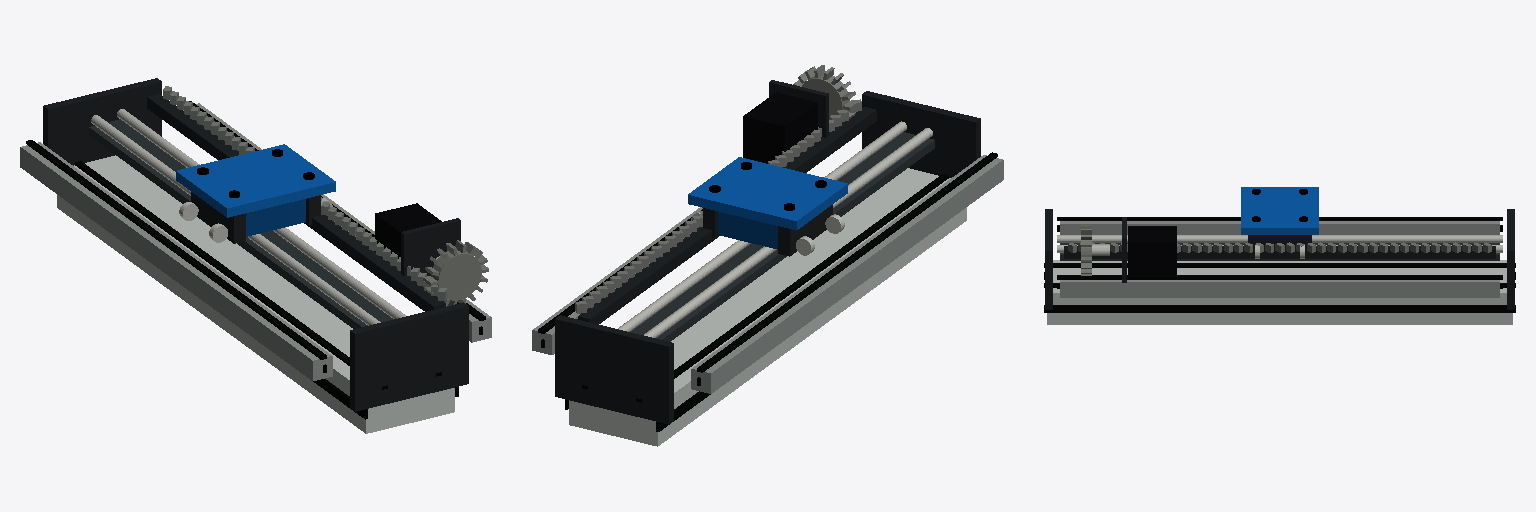
URDF robot description (xz_motion_mechanism_sim):
<?xml version="1.0"?>
<robot name="xz_motion_mechanism_sim">
  <material name="aluminium">
    <color rgba="0.74 0.76 0.74 1"/>
  </material>
  <material name="aluminium_dark">
    <color rgba="0.56 0.58 0.57 1"/>
  </material>
  <material name="slot_black">
    <color rgba="0.035 0.038 0.040 1"/>
  </material>
  <material name="dark_metal">
    <color rgba="0.13 0.14 0.15 1"/>
  </material>
  <material name="rail_dark">
    <color rgba="0.20 0.22 0.23 1"/>
  </material>
  <material name="steel">
    <color rgba="0.72 0.72 0.70 1"/>
  </material>
  <material name="gear_steel">
    <color rgba="0.48 0.49 0.47 1"/>
  </material>
  <material name="carriage_blue">
    <color rgba="0.04 0.28 0.50 1"/>
  </material>
  <material name="anodized_blue">
    <color rgba="0.06 0.38 0.68 1"/>
  </material>
  <material name="motor_black">
    <color rgba="0.05 0.05 0.06 1"/>
  </material>
  <material name="motor_label">
    <color rgba="0.85 0.88 0.82 1"/>
  </material>
  <material name="bolt_black">
    <color rgba="0.01 0.01 0.012 1"/>
  </material>

  <link name="world"/>

  <link name="base_frame">
    <visual name="base_8080_body">
      <origin xyz="0 0 0.04" rpy="0 0 0"/>
      <geometry><box size="0.18 1.08 0.08"/></geometry>
      <material name="aluminium"/>
    </visual>
    <visual name="base_top_slot_-0.055">
      <origin xyz="-0.055 0 0.083" rpy="0 0 0"/>
      <geometry><box size="0.012 1.09 0.006"/></geometry>
      <material name="slot_black"/>
    </visual>
    <visual name="base_top_slot_0.055">
      <origin xyz="0.055 0 0.083" rpy="0 0 0"/>
      <geometry><box size="0.012 1.09 0.006"/></geometry>
      <material name="slot_black"/>
    </visual>
    <visual name="base_side_slot_-0.092">
      <origin xyz="-0.092 0 0.04" rpy="0 0 0"/>
      <geometry><box size="0.006 1.09 0.018"/></geometry>
      <material name="slot_black"/>
    </visual>
    <visual name="base_side_slot_0.092">
      <origin xyz="0.092 0 0.04" rpy="0 0 0"/>
      <geometry><box size="0.006 1.09 0.018"/></geometry>
      <material name="slot_black"/>
    </visual>
    <visual name="left_4040_profile">
      <origin xyz="-0.16 0 0.13" rpy="0 0 0"/>
      <geometry><box size="0.04 1.02 0.04"/></geometry>
      <material name="aluminium_dark"/>
    </visual>
    <visual name="left_profile_top_slot">
      <origin xyz="-0.16 0 0.153" rpy="0 0 0"/>
      <geometry><box size="0.012 1.03 0.006"/></geometry>
      <material name="slot_black"/>
    </visual>
    <visual name="left_profile_inner_slot">
      <origin xyz="-0.1568 0 0.13" rpy="0 0 0"/>
      <geometry><box size="0.006 1.03 0.014"/></geometry>
      <material name="slot_black"/>
    </visual>
    <visual name="right_4040_profile">
      <origin xyz="0.16 0 0.13" rpy="0 0 0"/>
      <geometry><box size="0.04 1.02 0.04"/></geometry>
      <material name="aluminium_dark"/>
    </visual>
    <visual name="right_profile_top_slot">
      <origin xyz="0.16 0 0.153" rpy="0 0 0"/>
      <geometry><box size="0.012 1.03 0.006"/></geometry>
      <material name="slot_black"/>
    </visual>
    <visual name="right_profile_inner_slot">
      <origin xyz="0.1568 0 0.13" rpy="0 0 0"/>
      <geometry><box size="0.006 1.03 0.014"/></geometry>
      <material name="slot_black"/>
    </visual>
    <visual name="rail_base">
      <origin xyz="0 0 0.148" rpy="0 0 0"/>
      <geometry><box size="0.085 1.02 0.016"/></geometry>
      <material name="rail_dark"/>
    </visual>
    <visual name="guide_round_-0.026">
      <origin xyz="-0.026 0 0.164" rpy="1.570796 0 0"/>
      <geometry><cylinder radius="0.0090" length="1.0300"/></geometry>
      <material name="steel"/>
    </visual>
    <visual name="guide_round_0.026">
      <origin xyz="0.026 0 0.164" rpy="1.570796 0 0"/>
      <geometry><cylinder radius="0.0090" length="1.0300"/></geometry>
      <material name="steel"/>
    </visual>
    <visual name="rack_backbone">
      <origin xyz="0.082 0 0.181" rpy="0 0 0"/>
      <geometry><box size="0.026 1.00 0.022"/></geometry>
      <material name="dark_metal"/>
    </visual>
    <visual name="rack_tooth_00">
      <origin xyz="0.099 -0.480 0.200" rpy="0 0 0.785398"/>
      <geometry><box size="0.018 0.012 0.018"/></geometry>
      <material name="gear_steel"/>
    </visual>
    <visual name="rack_tooth_01">
      <origin xyz="0.099 -0.456 0.200" rpy="0 0 0.785398"/>
      <geometry><box size="0.018 0.012 0.018"/></geometry>
      <material name="gear_steel"/>
    </visual>
    <visual name="rack_tooth_02">
      <origin xyz="0.099 -0.432 0.200" rpy="0 0 0.785398"/>
      <geometry><box size="0.018 0.012 0.018"/></geometry>
      <material name="gear_steel"/>
    </visual>
    <visual name="rack_tooth_03">
      <origin xyz="0.099 -0.408 0.200" rpy="0 0 0.785398"/>
      <geometry><box size="0.018 0.012 0.018"/></geometry>
      <material name="gear_steel"/>
    </visual>
    <visual name="rack_tooth_04">
      <origin xyz="0.099 -0.384 0.200" rpy="0 0 0.785398"/>
      <geometry><box size="0.018 0.012 0.018"/></geometry>
      <material name="gear_steel"/>
    </visual>
    <visual name="rack_tooth_05">
      <origin xyz="0.099 -0.360 0.200" rpy="0 0 0.785398"/>
      <geometry><box size="0.018 0.012 0.018"/></geometry>
      <material name="gear_steel"/>
    </visual>
    <visual name="rack_tooth_06">
      <origin xyz="0.099 -0.336 0.200" rpy="0 0 0.785398"/>
      <geometry><box size="0.018 0.012 0.018"/></geometry>
      <material name="gear_steel"/>
    </visual>
    <visual name="rack_tooth_07">
      <origin xyz="0.099 -0.312 0.200" rpy="0 0 0.785398"/>
      <geometry><box size="0.018 0.012 0.018"/></geometry>
      <material name="gear_steel"/>
    </visual>
    <visual name="rack_tooth_08">
      <origin xyz="0.099 -0.288 0.200" rpy="0 0 0.785398"/>
      <geometry><box size="0.018 0.012 0.018"/></geometry>
      <material name="gear_steel"/>
    </visual>
    <visual name="rack_tooth_09">
      <origin xyz="0.099 -0.264 0.200" rpy="0 0 0.785398"/>
      <geometry><box size="0.018 0.012 0.018"/></geometry>
      <material name="gear_steel"/>
    </visual>
    <visual name="rack_tooth_10">
      <origin xyz="0.099 -0.240 0.200" rpy="0 0 0.785398"/>
      <geometry><box size="0.018 0.012 0.018"/></geometry>
      <material name="gear_steel"/>
    </visual>
    <visual name="rack_tooth_11">
      <origin xyz="0.099 -0.216 0.200" rpy="0 0 0.785398"/>
      <geometry><box size="0.018 0.012 0.018"/></geometry>
      <material name="gear_steel"/>
    </visual>
    <visual name="rack_tooth_12">
      <origin xyz="0.099 -0.192 0.200" rpy="0 0 0.785398"/>
      <geometry><box size="0.018 0.012 0.018"/></geometry>
      <material name="gear_steel"/>
    </visual>
    <visual name="rack_tooth_13">
      <origin xyz="0.099 -0.168 0.200" rpy="0 0 0.785398"/>
      <geometry><box size="0.018 0.012 0.018"/></geometry>
      <material name="gear_steel"/>
    </visual>
    <visual name="rack_tooth_14">
      <origin xyz="0.099 -0.144 0.200" rpy="0 0 0.785398"/>
      <geometry><box size="0.018 0.012 0.018"/></geometry>
      <material name="gear_steel"/>
    </visual>
    <visual name="rack_tooth_15">
      <origin xyz="0.099 -0.120 0.200" rpy="0 0 0.785398"/>
      <geometry><box size="0.018 0.012 0.018"/></geometry>
      <material name="gear_steel"/>
    </visual>
    <visual name="rack_tooth_16">
      <origin xyz="0.099 -0.096 0.200" rpy="0 0 0.785398"/>
      <geometry><box size="0.018 0.012 0.018"/></geometry>
      <material name="gear_steel"/>
    </visual>
    <visual name="rack_tooth_17">
      <origin xyz="0.099 -0.072 0.200" rpy="0 0 0.785398"/>
      <geometry><box size="0.018 0.012 0.018"/></geometry>
      <material name="gear_steel"/>
    </visual>
    <visual name="rack_tooth_18">
      <origin xyz="0.099 -0.048 0.200" rpy="0 0 0.785398"/>
      <geometry><box size="0.018 0.012 0.018"/></geometry>
      <material name="gear_steel"/>
    </visual>
    <visual name="rack_tooth_19">
      <origin xyz="0.099 -0.024 0.200" rpy="0 0 0.785398"/>
      <geometry><box size="0.018 0.012 0.018"/></geometry>
      <material name="gear_steel"/>
    </visual>
    <visual name="rack_tooth_20">
      <origin xyz="0.099 0.000 0.200" rpy="0 0 0.785398"/>
      <geometry><box size="0.018 0.012 0.018"/></geometry>
      <material name="gear_steel"/>
    </visual>
    <visual name="rack_tooth_21">
      <origin xyz="0.099 0.024 0.200" rpy="0 0 0.785398"/>
      <geometry><box size="0.018 0.012 0.018"/></geometry>
      <material name="gear_steel"/>
    </visual>
    <visual name="rack_tooth_22">
      <origin xyz="0.099 0.048 0.200" rpy="0 0 0.785398"/>
      <geometry><box size="0.018 0.012 0.018"/></geometry>
      <material name="gear_steel"/>
    </visual>
    <visual name="rack_tooth_23">
      <origin xyz="0.099 0.072 0.200" rpy="0 0 0.785398"/>
      <geometry><box size="0.018 0.012 0.018"/></geometry>
      <material name="gear_steel"/>
    </visual>
    <visual name="rack_tooth_24">
      <origin xyz="0.099 0.096 0.200" rpy="0 0 0.785398"/>
      <geometry><box size="0.018 0.012 0.018"/></geometry>
      <material name="gear_steel"/>
    </visual>
    <visual name="rack_tooth_25">
      <origin xyz="0.099 0.120 0.200" rpy="0 0 0.785398"/>
      <geometry><box size="0.018 0.012 0.018"/></geometry>
      <material name="gear_steel"/>
    </visual>
    <visual name="rack_tooth_26">
      <origin xyz="0.099 0.144 0.200" rpy="0 0 0.785398"/>
      <geometry><box size="0.018 0.012 0.018"/></geometry>
      <material name="gear_steel"/>
    </visual>
    <visual name="rack_tooth_27">
      <origin xyz="0.099 0.168 0.200" rpy="0 0 0.785398"/>
      <geometry><box size="0.018 0.012 0.018"/></geometry>
      <material name="gear_steel"/>
    </visual>
    <visual name="rack_tooth_28">
      <origin xyz="0.099 0.192 0.200" rpy="0 0 0.785398"/>
      <geometry><box size="0.018 0.012 0.018"/></geometry>
      <material name="gear_steel"/>
    </visual>
    <visual name="rack_tooth_29">
      <origin xyz="0.099 0.216 0.200" rpy="0 0 0.785398"/>
      <geometry><box size="0.018 0.012 0.018"/></geometry>
      <material name="gear_steel"/>
    </visual>
    <visual name="rack_tooth_30">
      <origin xyz="0.099 0.240 0.200" rpy="0 0 0.785398"/>
      <geometry><box size="0.018 0.012 0.018"/></geometry>
      <material name="gear_steel"/>
    </visual>
    <visual name="rack_tooth_31">
      <origin xyz="0.099 0.264 0.200" rpy="0 0 0.785398"/>
      <geometry><box size="0.018 0.012 0.018"/></geometry>
      <material name="gear_steel"/>
    </visual>
    <visual name="rack_tooth_32">
      <origin xyz="0.099 0.288 0.200" rpy="0 0 0.785398"/>
      <geometry><box size="0.018 0.012 0.018"/></geometry>
      <material name="gear_steel"/>
    </visual>
    <visual name="rack_tooth_33">
      <origin xyz="0.099 0.312 0.200" rpy="0 0 0.785398"/>
      <geometry><box size="0.018 0.012 0.018"/></geometry>
      <material name="gear_steel"/>
    </visual>
    <visual name="rack_tooth_34">
      <origin xyz="0.099 0.336 0.200" rpy="0 0 0.785398"/>
      <geometry><box size="0.018 0.012 0.018"/></geometry>
      <material name="gear_steel"/>
    </visual>
    <visual name="rack_tooth_35">
      <origin xyz="0.099 0.360 0.200" rpy="0 0 0.785398"/>
      <geometry><box size="0.018 0.012 0.018"/></geometry>
      <material name="gear_steel"/>
    </visual>
    <visual name="rack_tooth_36">
      <origin xyz="0.099 0.384 0.200" rpy="0 0 0.785398"/>
      <geometry><box size="0.018 0.012 0.018"/></geometry>
      <material name="gear_steel"/>
    </visual>
    <visual name="rack_tooth_37">
      <origin xyz="0.099 0.408 0.200" rpy="0 0 0.785398"/>
      <geometry><box size="0.018 0.012 0.018"/></geometry>
      <material name="gear_steel"/>
    </visual>
    <visual name="rack_tooth_38">
      <origin xyz="0.099 0.432 0.200" rpy="0 0 0.785398"/>
      <geometry><box size="0.018 0.012 0.018"/></geometry>
      <material name="gear_steel"/>
    </visual>
    <visual name="rack_tooth_39">
      <origin xyz="0.099 0.456 0.200" rpy="0 0 0.785398"/>
      <geometry><box size="0.018 0.012 0.018"/></geometry>
      <material name="gear_steel"/>
    </visual>
    <visual name="rack_tooth_40">
      <origin xyz="0.099 0.480 0.200" rpy="0 0 0.785398"/>
      <geometry><box size="0.018 0.012 0.018"/></geometry>
      <material name="gear_steel"/>
    </visual>
    <visual name="end_plate_-0.535">
      <origin xyz="0 -0.535 0.125" rpy="0 0 0"/>
      <geometry><box size="0.23 0.018 0.15"/></geometry>
      <material name="dark_metal"/>
    </visual>
    <visual name="end_bolt_-0.535_-0.07_0.08">
      <origin xyz="-0.07 -0.535 0.08" rpy="1.570796 0 0"/>
      <geometry><cylinder radius="0.0080" length="0.0060"/></geometry>
      <material name="bolt_black"/>
    </visual>
    <visual name="end_bolt_-0.535_-0.07_0.17">
      <origin xyz="-0.07 -0.535 0.17" rpy="1.570796 0 0"/>
      <geometry><cylinder radius="0.0080" length="0.0060"/></geometry>
      <material name="bolt_black"/>
    </visual>
    <visual name="end_bolt_-0.535_0.07_0.08">
      <origin xyz="0.07 -0.535 0.08" rpy="1.570796 0 0"/>
      <geometry><cylinder radius="0.0080" length="0.0060"/></geometry>
      <material name="bolt_black"/>
    </visual>
    <visual name="end_bolt_-0.535_0.07_0.17">
      <origin xyz="0.07 -0.535 0.17" rpy="1.570796 0 0"/>
      <geometry><cylinder radius="0.0080" length="0.0060"/></geometry>
      <material name="bolt_black"/>
    </visual>
    <visual name="end_plate_0.535">
      <origin xyz="0 0.535 0.125" rpy="0 0 0"/>
      <geometry><box size="0.23 0.018 0.15"/></geometry>
      <material name="dark_metal"/>
    </visual>
    <visual name="end_bolt_0.535_-0.07_0.08">
      <origin xyz="-0.07 0.535 0.08" rpy="1.570796 0 0"/>
      <geometry><cylinder radius="0.0080" length="0.0060"/></geometry>
      <material name="bolt_black"/>
    </visual>
    <visual name="end_bolt_0.535_-0.07_0.17">
      <origin xyz="-0.07 0.535 0.17" rpy="1.570796 0 0"/>
      <geometry><cylinder radius="0.0080" length="0.0060"/></geometry>
      <material name="bolt_black"/>
    </visual>
    <visual name="end_bolt_0.535_0.07_0.08">
      <origin xyz="0.07 0.535 0.08" rpy="1.570796 0 0"/>
      <geometry><cylinder radius="0.0080" length="0.0060"/></geometry>
      <material name="bolt_black"/>
    </visual>
    <visual name="end_bolt_0.535_0.07_0.17">
      <origin xyz="0.07 0.535 0.17" rpy="1.570796 0 0"/>
      <geometry><cylinder radius="0.0080" length="0.0060"/></geometry>
      <material name="bolt_black"/>
    </visual>
    <collision name="base_collision">
      <origin xyz="0 0 0.04" rpy="0 0 0"/>
      <geometry><box size="0.22 1.10 0.09"/></geometry>
    </collision>
    <collision name="rail_collision">
      <origin xyz="0 0 0.16" rpy="0 0 0"/>
      <geometry><box size="0.09 1.02 0.04"/></geometry>
    </collision>
    <collision name="rack_collision">
      <origin xyz="0.087 0 0.19" rpy="0 0 0"/>
      <geometry><box size="0.04 1.00 0.04"/></geometry>
    </collision>
    <inertial>
      <mass value="25.0"/>
      <inertia ixx="0.75" ixy="0" ixz="0" iyy="2.1" iyz="0" izz="2.65"/>
    </inertial>
  </link>

  <joint name="world_fixed" type="fixed">
    <parent link="world"/>
    <child link="base_frame"/>
    <origin xyz="0 0 0" rpy="0 0 0"/>
  </joint>

  <link name="carriage">
    <visual name="slider_block_body">
      <origin xyz="0 0 0" rpy="0 0 0"/>
      <geometry><box size="0.14 0.13 0.05"/></geometry>
      <material name="carriage_blue"/>
    </visual>
    <visual name="top_mount_plate">
      <origin xyz="0 0 0.043" rpy="0 0 0"/>
      <geometry><box size="0.22 0.18 0.018"/></geometry>
      <material name="anodized_blue"/>
    </visual>
    <visual name="front_clamp">
      <origin xyz="0.075 0 0.005" rpy="0 0 0"/>
      <geometry><box size="0.025 0.15 0.065"/></geometry>
      <material name="dark_metal"/>
    </visual>
    <visual name="rear_clamp">
      <origin xyz="-0.075 0 0.005" rpy="0 0 0"/>
      <geometry><box size="0.025 0.15 0.065"/></geometry>
      <material name="dark_metal"/>
    </visual>
    <visual name="carriage_cap_-0.075_-0.055">
      <origin xyz="-0.075 -0.055 0.057" rpy="0 0 0"/>
      <geometry><cylinder radius="0.0100" length="0.0060"/></geometry>
      <material name="bolt_black"/>
    </visual>
    <visual name="carriage_cap_-0.075_0.055">
      <origin xyz="-0.075 0.055 0.057" rpy="0 0 0"/>
      <geometry><cylinder radius="0.0100" length="0.0060"/></geometry>
      <material name="bolt_black"/>
    </visual>
    <visual name="carriage_cap_0.075_-0.055">
      <origin xyz="0.075 -0.055 0.057" rpy="0 0 0"/>
      <geometry><cylinder radius="0.0100" length="0.0060"/></geometry>
      <material name="bolt_black"/>
    </visual>
    <visual name="carriage_cap_0.075_0.055">
      <origin xyz="0.075 0.055 0.057" rpy="0 0 0"/>
      <geometry><cylinder radius="0.0100" length="0.0060"/></geometry>
      <material name="bolt_black"/>
    </visual>
    <visual name="roller_-0.105_-0.052">
      <origin xyz="-0.105 -0.052 -0.012" rpy="1.570796 0 0"/>
      <geometry><cylinder radius="0.0160" length="0.0120"/></geometry>
      <material name="steel"/>
    </visual>
    <visual name="roller_-0.105_0.052">
      <origin xyz="-0.105 0.052 -0.012" rpy="1.570796 0 0"/>
      <geometry><cylinder radius="0.0160" length="0.0120"/></geometry>
      <material name="steel"/>
    </visual>
    <visual name="roller_0.105_-0.052">
      <origin xyz="0.105 -0.052 -0.012" rpy="1.570796 0 0"/>
      <geometry><cylinder radius="0.0160" length="0.0120"/></geometry>
      <material name="steel"/>
    </visual>
    <visual name="roller_0.105_0.052">
      <origin xyz="0.105 0.052 -0.012" rpy="1.570796 0 0"/>
      <geometry><cylinder radius="0.0160" length="0.0120"/></geometry>
      <material name="steel"/>
    </visual>
    <collision name="carriage_collision">
      <origin xyz="0 0 0.018" rpy="0 0 0"/>
      <geometry><box size="0.23 0.18 0.085"/></geometry>
    </collision>
    <inertial>
      <mass value="5.0"/>
      <inertia ixx="0.014" ixy="0" ixz="0" iyy="0.02" iyz="0" izz="0.018"/>
    </inertial>
  </link>

  <joint name="carriage_slide_joint" type="prismatic">
    <parent link="base_frame"/>
    <child link="carriage"/>
    <origin xyz="0 0 0.205" rpy="0 0 0"/>
    <axis xyz="0 1 0"/>
    <limit lower="-0.42" upper="0.42" effort="180" velocity="1.2"/>
    <dynamics damping="18.0" friction="3.0"/>
  </joint>

  <link name="servo_and_pinion">
    <visual name="servo_body">
      <origin xyz="0 0 -0.055" rpy="0 0 0"/>
      <geometry><box size="0.085 0.085 0.115"/></geometry>
      <material name="motor_black"/>
    </visual>
    <visual name="servo_label">
      <origin xyz="0 -0.0435 -0.055" rpy="0 0 0"/>
      <geometry><box size="0.055 0.003 0.045"/></geometry>
      <material name="motor_label"/>
    </visual>
    <visual name="servo_flange">
      <origin xyz="0 0 0.010" rpy="1.570796 0 0"/>
      <geometry><box size="0.115 0.012 0.115"/></geometry>
      <material name="dark_metal"/>
    </visual>
    <visual name="motor_shaft">
      <origin xyz="0 0 0.068" rpy="0 0 0"/>
      <geometry><cylinder radius="0.0140" length="0.0500"/></geometry>
      <material name="steel"/>
    </visual>
    <visual name="pinion_body">
      <origin xyz="0 0 0.098" rpy="0 0 0"/>
      <geometry><cylinder radius="0.0440" length="0.0260"/></geometry>
      <material name="gear_steel"/>
    </visual>
    <visual name="pinion_tooth_00">
      <origin xyz="0.0520 0.0000 0.098" rpy="0 0 0.000000"/>
      <geometry><box size="0.014 0.006 0.026"/></geometry>
      <material name="gear_steel"/>
    </visual>
    <visual name="pinion_tooth_01">
      <origin xyz="0.0489 0.0178 0.098" rpy="0 0 0.349066"/>
      <geometry><box size="0.014 0.006 0.026"/></geometry>
      <material name="gear_steel"/>
    </visual>
    <visual name="pinion_tooth_02">
      <origin xyz="0.0398 0.0334 0.098" rpy="0 0 0.698132"/>
      <geometry><box size="0.014 0.006 0.026"/></geometry>
      <material name="gear_steel"/>
    </visual>
    <visual name="pinion_tooth_03">
      <origin xyz="0.0260 0.0450 0.098" rpy="0 0 1.047198"/>
      <geometry><box size="0.014 0.006 0.026"/></geometry>
      <material name="gear_steel"/>
    </visual>
    <visual name="pinion_tooth_04">
      <origin xyz="0.0090 0.0512 0.098" rpy="0 0 1.396263"/>
      <geometry><box size="0.014 0.006 0.026"/></geometry>
      <material name="gear_steel"/>
    </visual>
    <visual name="pinion_tooth_05">
      <origin xyz="-0.0090 0.0512 0.098" rpy="0 0 1.745329"/>
      <geometry><box size="0.014 0.006 0.026"/></geometry>
      <material name="gear_steel"/>
    </visual>
    <visual name="pinion_tooth_06">
      <origin xyz="-0.0260 0.0450 0.098" rpy="0 0 2.094395"/>
      <geometry><box size="0.014 0.006 0.026"/></geometry>
      <material name="gear_steel"/>
    </visual>
    <visual name="pinion_tooth_07">
      <origin xyz="-0.0398 0.0334 0.098" rpy="0 0 2.443461"/>
      <geometry><box size="0.014 0.006 0.026"/></geometry>
      <material name="gear_steel"/>
    </visual>
    <visual name="pinion_tooth_08">
      <origin xyz="-0.0489 0.0178 0.098" rpy="0 0 2.792527"/>
      <geometry><box size="0.014 0.006 0.026"/></geometry>
      <material name="gear_steel"/>
    </visual>
    <visual name="pinion_tooth_09">
      <origin xyz="-0.0520 0.0000 0.098" rpy="0 0 3.141593"/>
      <geometry><box size="0.014 0.006 0.026"/></geometry>
      <material name="gear_steel"/>
    </visual>
    <visual name="pinion_tooth_10">
      <origin xyz="-0.0489 -0.0178 0.098" rpy="0 0 3.490659"/>
      <geometry><box size="0.014 0.006 0.026"/></geometry>
      <material name="gear_steel"/>
    </visual>
    <visual name="pinion_tooth_11">
      <origin xyz="-0.0398 -0.0334 0.098" rpy="0 0 3.839724"/>
      <geometry><box size="0.014 0.006 0.026"/></geometry>
      <material name="gear_steel"/>
    </visual>
    <visual name="pinion_tooth_12">
      <origin xyz="-0.0260 -0.0450 0.098" rpy="0 0 4.188790"/>
      <geometry><box size="0.014 0.006 0.026"/></geometry>
      <material name="gear_steel"/>
    </visual>
    <visual name="pinion_tooth_13">
      <origin xyz="-0.0090 -0.0512 0.098" rpy="0 0 4.537856"/>
      <geometry><box size="0.014 0.006 0.026"/></geometry>
      <material name="gear_steel"/>
    </visual>
    <visual name="pinion_tooth_14">
      <origin xyz="0.0090 -0.0512 0.098" rpy="0 0 4.886922"/>
      <geometry><box size="0.014 0.006 0.026"/></geometry>
      <material name="gear_steel"/>
    </visual>
    <visual name="pinion_tooth_15">
      <origin xyz="0.0260 -0.0450 0.098" rpy="0 0 5.235988"/>
      <geometry><box size="0.014 0.006 0.026"/></geometry>
      <material name="gear_steel"/>
    </visual>
    <visual name="pinion_tooth_16">
      <origin xyz="0.0398 -0.0334 0.098" rpy="0 0 5.585054"/>
      <geometry><box size="0.014 0.006 0.026"/></geometry>
      <material name="gear_steel"/>
    </visual>
    <visual name="pinion_tooth_17">
      <origin xyz="0.0489 -0.0178 0.098" rpy="0 0 5.934119"/>
      <geometry><box size="0.014 0.006 0.026"/></geometry>
      <material name="gear_steel"/>
    </visual>
    <collision name="servo_collision">
      <origin xyz="0 0 -0.055" rpy="0 0 0"/>
      <geometry><box size="0.09 0.09 0.12"/></geometry>
    </collision>
    <collision name="pinion_collision">
      <origin xyz="0 0 0.098" rpy="0 0 0"/>
      <geometry><box size="0.11 0.11 0.03"/></geometry>
    </collision>
    <inertial>
      <mass value="2.8"/>
      <inertia ixx="0.012" ixy="0" ixz="0" iyy="0.012" iyz="0" izz="0.006"/>
    </inertial>
  </link>

  <joint name="pinion_drive_joint" type="revolute">
    <parent link="base_frame"/>
    <child link="servo_and_pinion"/>
    <origin xyz="0.145 -0.35 0.215" rpy="1.570796 0 0"/>
    <axis xyz="0 0 1"/>
    <limit lower="-1000000" upper="1000000" effort="15" velocity="40"/>
    <dynamics damping="0.15" friction="0.02"/>
  </joint>
</robot>

--- Facts derived from the render (not from the file) ---
Views: 3 orthographic renders of the robot side by side, from view 1: azimuth 30°, elevation 25°; view 2: azimuth 150°, elevation 25°; view 3: azimuth 270°, elevation 25°.
Model xz_motion_mechanism_sim with 4 links and 3 joints (1 revolute, 1 prismatic, 1 fixed), rooted at world, posed all joints at 0.
Visible links, largest first — view 1: base_frame, carriage, servo_and_pinion; view 2: base_frame, carriage, servo_and_pinion; view 3: base_frame, carriage, servo_and_pinion.
Boxes of the visible links, box(x1,y1,x2,y2) form: base_frame: box(20, 78, 491, 433); carriage: box(176, 144, 335, 243); servo_and_pinion: box(375, 203, 488, 306); base_frame: box(532, 91, 1003, 446); carriage: box(688, 157, 847, 256); servo_and_pinion: box(743, 65, 856, 163); base_frame: box(1044, 209, 1515, 324); carriage: box(1241, 187, 1318, 258); servo_and_pinion: box(1081, 217, 1176, 282).
Bounding box of the posed robot: 0.384 × 1.09 × 0.2736 m (x, y, z).
Geometry: primitives only (box / cylinder / sphere), no mesh files.
